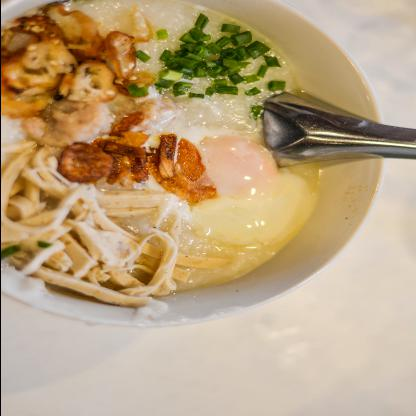Joke: (0, 0, 348, 307)
